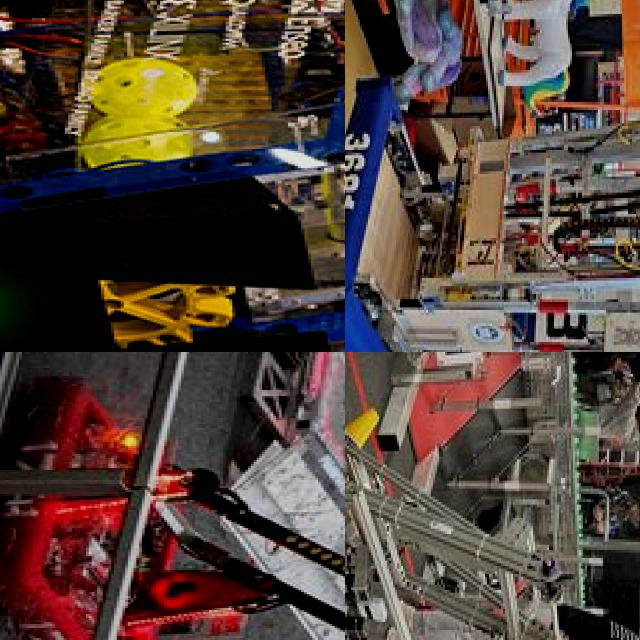FRC-Robots: (0, 0, 345, 352), (345, 77, 640, 352), (28, 385, 345, 640), (345, 352, 591, 640)
